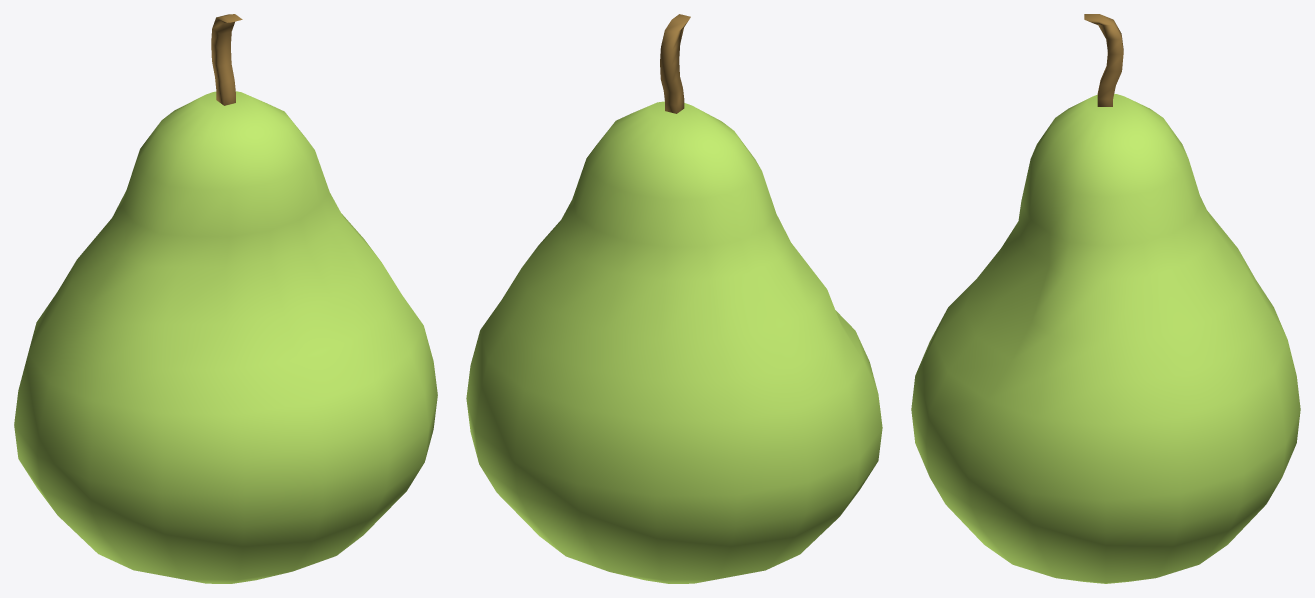
File: pera.fbx
3 views of the same model, side by side, from view 1: azimuth 30°, elevation 25°; view 2: azimuth 150°, elevation 25°; view 3: azimuth 270°, elevation 25° (orthographic).
Visible parts, largest first — view 1: Cylinder; view 2: Cylinder; view 3: Cylinder.
Part boxes in pixels (box(x1,y1,x2,y2)): Cylinder: box(14, 14, 437, 583); Cylinder: box(466, 14, 882, 583); Cylinder: box(911, 14, 1300, 583).
Bounding box in the file's own units: 204 × 287 × 184.
